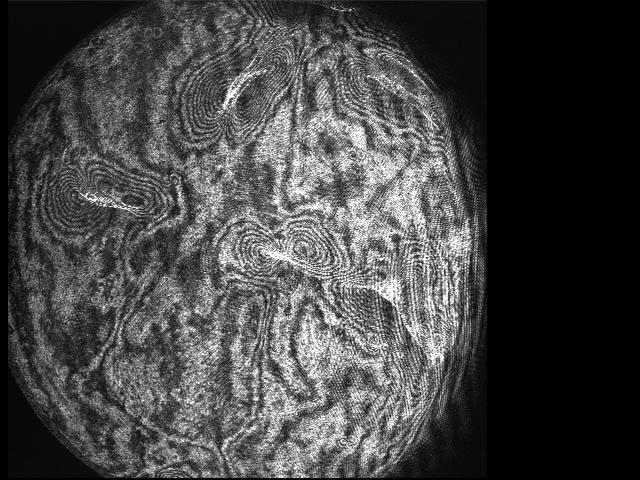plume: (42, 156, 176, 235), (180, 46, 284, 135), (223, 218, 340, 283)
